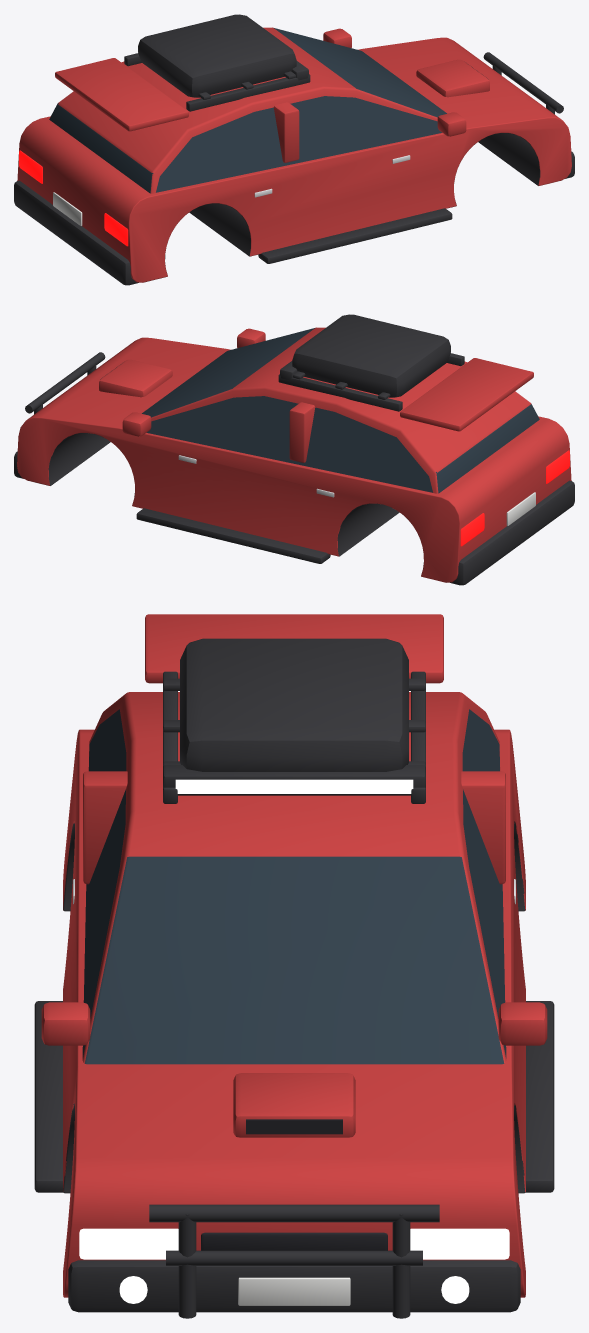
The model's file is hatch_esportivo.glb.
The picture shows the model from 3 angles, top to bottom: view 1: azimuth 30°, elevation 25°; view 2: azimuth 150°, elevation 25°; view 3: azimuth 270°, elevation 25°; orthographic projection. The views are drawn at different scales.
Parts seen in each view (by area): view 1: carroceria, cabine, bagageiro, asa, parachoque_t, estribo, tomada, coluna0, rack_trilho, qm_barra, retrovisor-1, lanterna-1 (+3 smaller); view 2: carroceria, cabine, bagageiro, asa, parachoque_t, estribo.001, tomada, coluna0, rack_trilho.001, qm_barra, retrovisor1, lanterna1 (+3 smaller); view 3: cabine, carroceria, bagageiro, parachoque_d, asa, tomada, coluna0, qm_barra, estribo, estribo.001, qm_barra2, led_luz (+12 smaller).
Part boxes in pixels (<box>): carroceria: <box>17,37,571,282</box>; cabine: <box>49,27,446,193</box>; bagageiro: <box>138,14,296,97</box>; asa: <box>55,58,188,131</box>; parachoque_t: <box>14,180,138,285</box>; estribo: <box>258,208,452,263</box>; tomada: <box>416,59,489,97</box>; coluna0: <box>273,102,299,162</box>; rack_trilho: <box>186,74,310,111</box>; qm_barra: <box>483,52,563,113</box>; retrovisor-1: <box>437,112,466,136</box>; lanterna-1: <box>104,213,128,246</box>; carroceria: <box>17,337,571,582</box>; cabine: <box>142,327,539,493</box>; bagageiro: <box>292,314,450,397</box>; asa: <box>400,358,533,431</box>; parachoque_t: <box>450,480,574,585</box>; estribo.001: <box>136,508,330,563</box>; tomada: <box>99,359,172,397</box>; coluna0: <box>289,402,315,462</box>; rack_trilho.001: <box>278,374,402,411</box>; qm_barra: <box>25,352,105,413</box>; retrovisor1: <box>122,412,151,436</box>; lanterna1: <box>460,513,484,546</box>; cabine: <box>82,692,506,1064</box>; carroceria: <box>63,729,525,1297</box>; bagageiro: <box>180,638,408,771</box>; parachoque_d: <box>68,1260,520,1312</box>; asa: <box>145,614,443,683</box>; tomada: <box>233,1073,355,1137</box>; coluna0: <box>83,771,505,884</box>; qm_barra: <box>149,1204,439,1222</box>; estribo: <box>34,1001,63,1192</box>; estribo.001: <box>525,1001,554,1192</box>; qm_barra2: <box>166,1250,422,1265</box>; led_luz: <box>175,779,413,793</box>.
Bounding box in the file's own units: 4.18 × 1.49 × 2.04.
